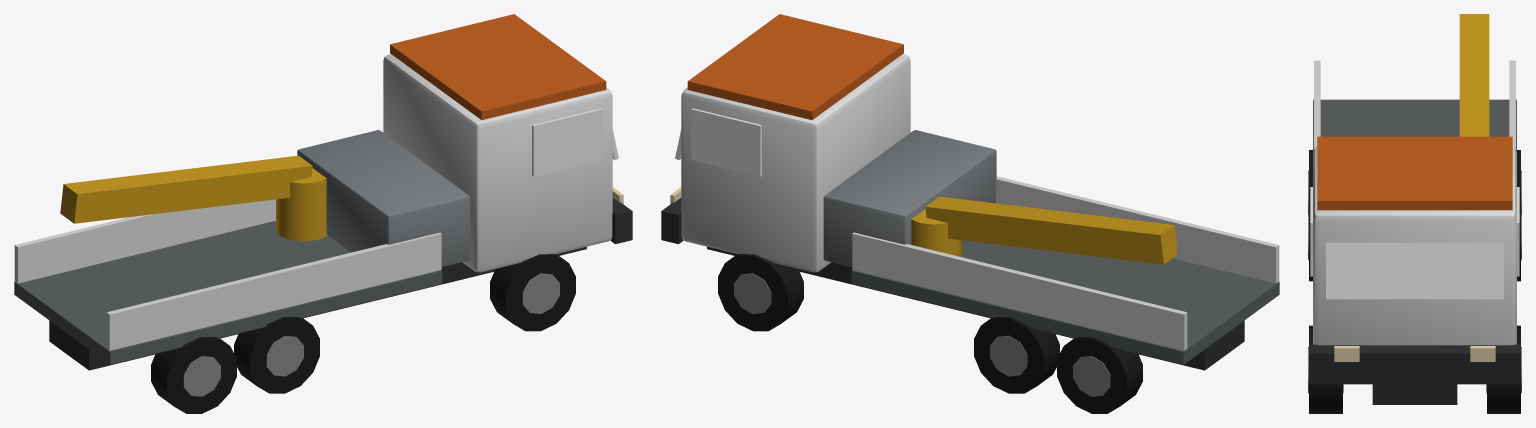
The model's file is utility-truck.glb.
The picture shows the model from 3 angles, left to right: view 1: azimuth 30°, elevation 25°; view 2: azimuth 150°, elevation 25°; view 3: azimuth 270°, elevation 25°; orthographic projection. The views are drawn at different scales.
Parts seen in each view (by area): view 1: Piece_lod0; view 2: Piece_lod0; view 3: Piece_lod0.
Boxes of the visible parts, x1,y1,x2,y2 form: Piece_lod0: [14, 14, 632, 413]; Piece_lod0: [661, 14, 1279, 413]; Piece_lod0: [1308, 14, 1521, 413].
Size of what is drawn, in the model's own units: 7.57 by 3.18 by 2.52.
